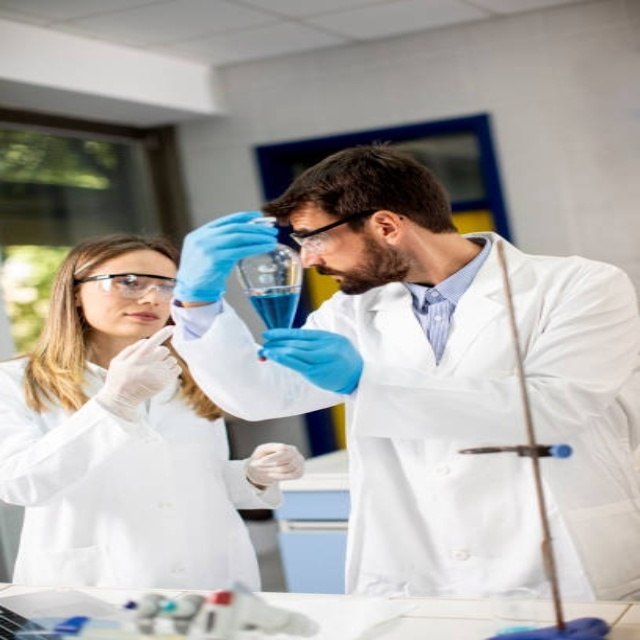Gafas: (287, 211, 381, 252), (77, 274, 180, 300)
Guantes: (177, 209, 284, 301), (94, 325, 185, 412), (257, 326, 365, 394), (246, 439, 304, 484)
Sin_mascara: (312, 264, 361, 294), (118, 305, 162, 332)
